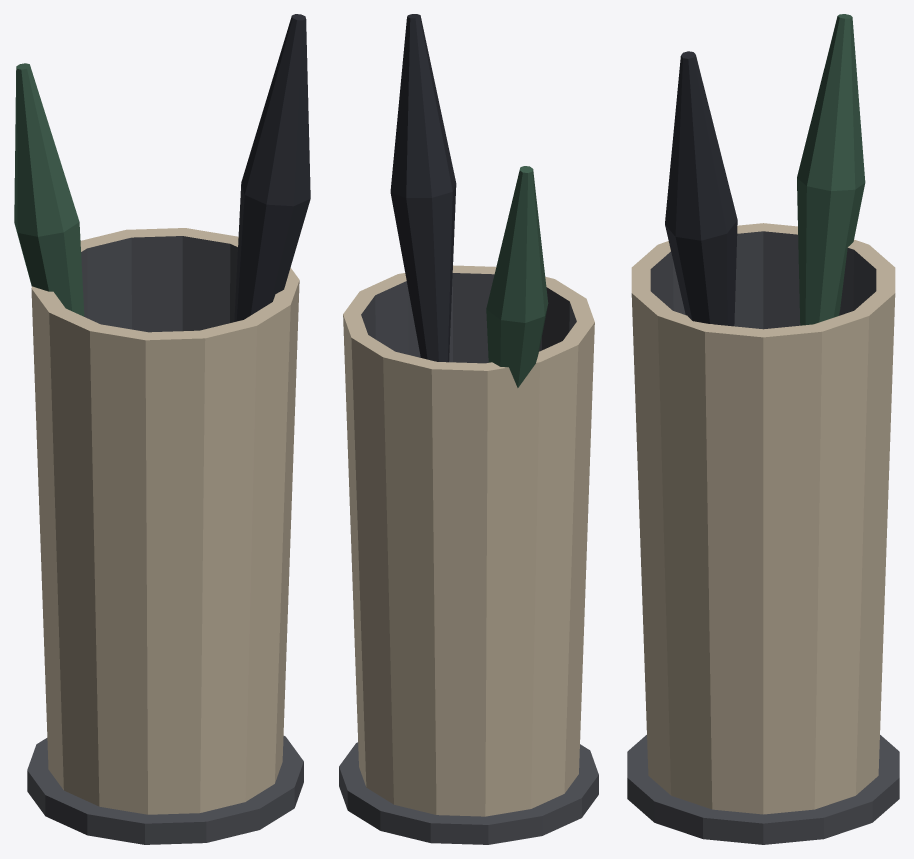
File: FN_Stand_Umbrella.obj
The picture shows the model from 3 angles, left to right: view 1: azimuth 30°, elevation 25°; view 2: azimuth 150°, elevation 25°; view 3: azimuth 270°, elevation 25°; orthographic projection. The views are drawn at different scales.
Visible parts, largest first — view 1: FN_Stand_Umbrella; view 2: FN_Stand_Umbrella; view 3: FN_Stand_Umbrella.
Boxes of the visible parts, left/top/right/bottom form: FN_Stand_Umbrella: left=14, top=14, right=310, bottom=844; FN_Stand_Umbrella: left=339, top=14, right=598, bottom=844; FN_Stand_Umbrella: left=627, top=14, right=899, bottom=844.
Bounding box in the file's own units: 0.26 × 0.8009 × 0.2535.
1 material, 1 textured.
